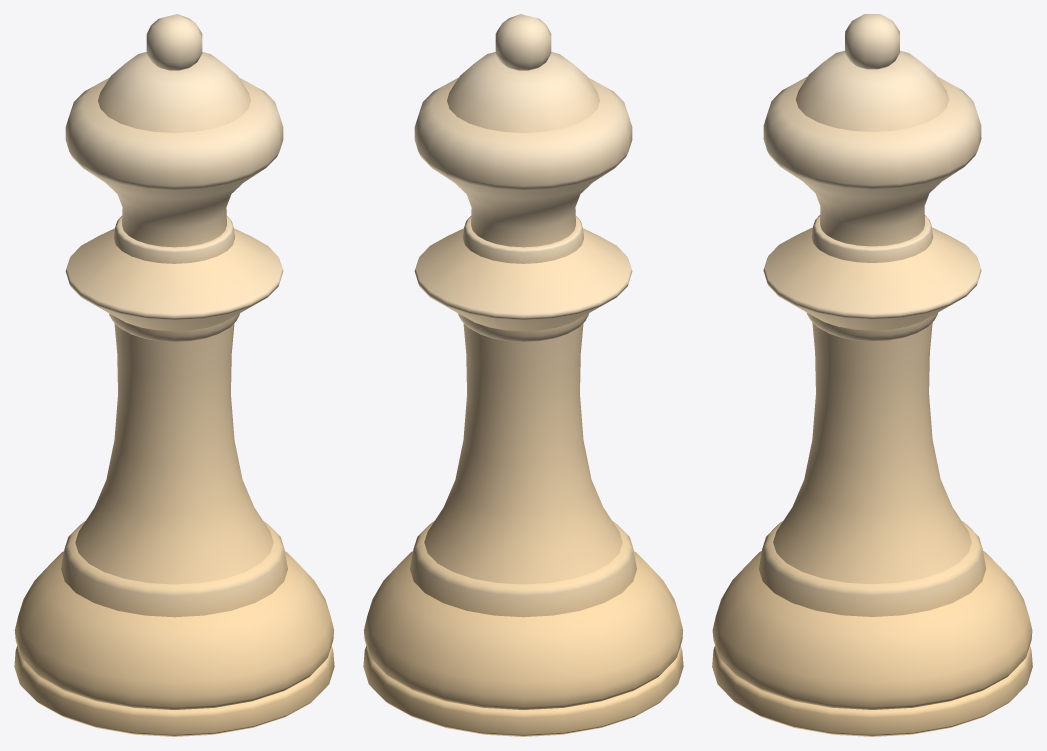
The model's file is Chess_White_Queen_01.fbx.
3 renders of one model, left to right at view 1: azimuth 30°, elevation 25°; view 2: azimuth 150°, elevation 25°; view 3: azimuth 270°, elevation 25°, orthographic.
Parts seen in each view (by area): view 1: Chess_White_Queen_01; view 2: Chess_White_Queen_01; view 3: Chess_White_Queen_01.
Boxes of the visible parts, bbox=[...] form: Chess_White_Queen_01: bbox=[14, 14, 334, 736]; Chess_White_Queen_01: bbox=[363, 14, 683, 736]; Chess_White_Queen_01: bbox=[712, 14, 1032, 736].
Size of the model in its own units: 4.01 by 9.09 by 4.01.
